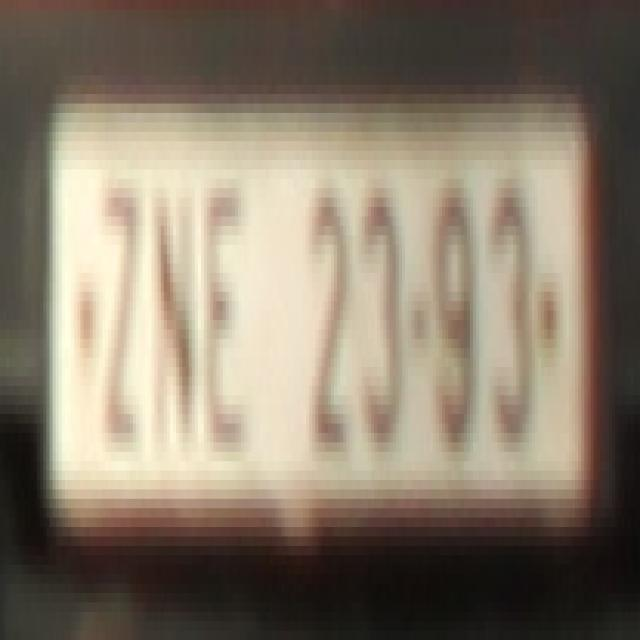2: (303, 169, 346, 452)
3: (482, 160, 532, 433), (359, 170, 402, 442)
9: (424, 160, 476, 433)
E: (201, 160, 247, 461)
N: (142, 179, 198, 461)
Z: (93, 170, 133, 442)
